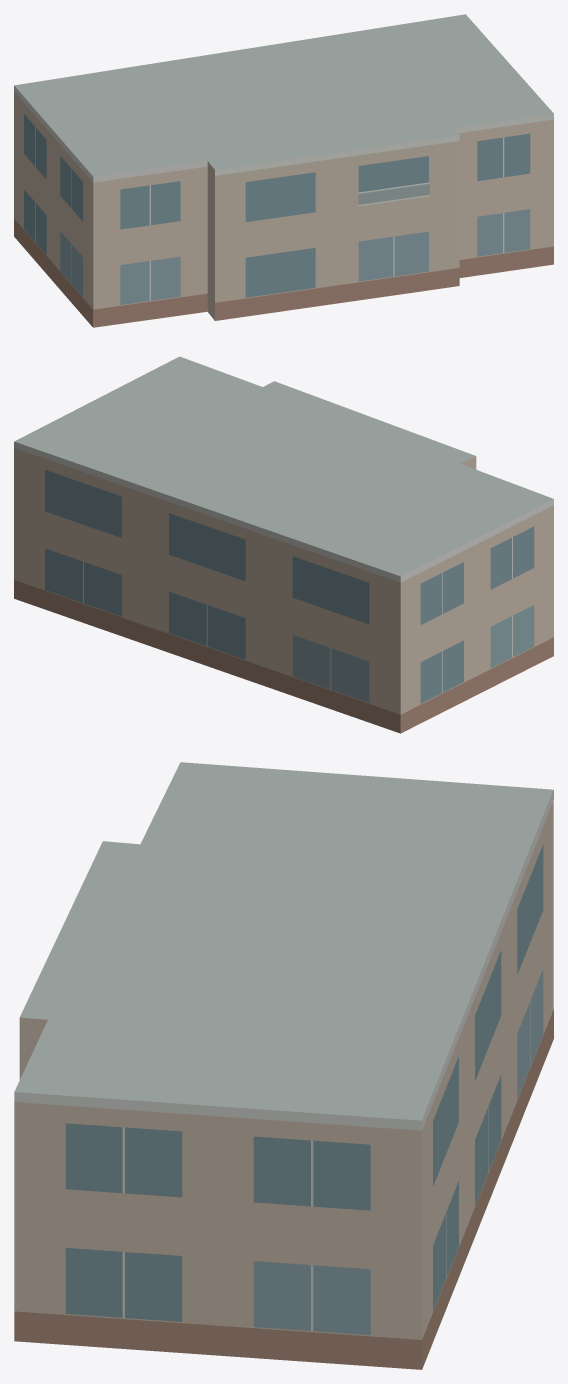
Rendered from survey-upis-32947627.glb.
3 renders of one model, top to bottom at view 1: azimuth 30°, elevation 25°; view 2: azimuth 150°, elevation 25°; view 3: azimuth 270°, elevation 25°, orthographic. The views are drawn at different scales.
Parts seen in each view (by area): view 1: survey-upis-32947627.tmp; view 2: survey-upis-32947627.tmp; view 3: survey-upis-32947627.tmp.
Boxes of the visible parts, <box> form: survey-upis-32947627.tmp: <box>14,14,553,327</box>; survey-upis-32947627.tmp: <box>14,356,553,733</box>; survey-upis-32947627.tmp: <box>14,762,553,1369</box>.
Size of the model in its own units: 18.84 by 6.1 by 11.99.
